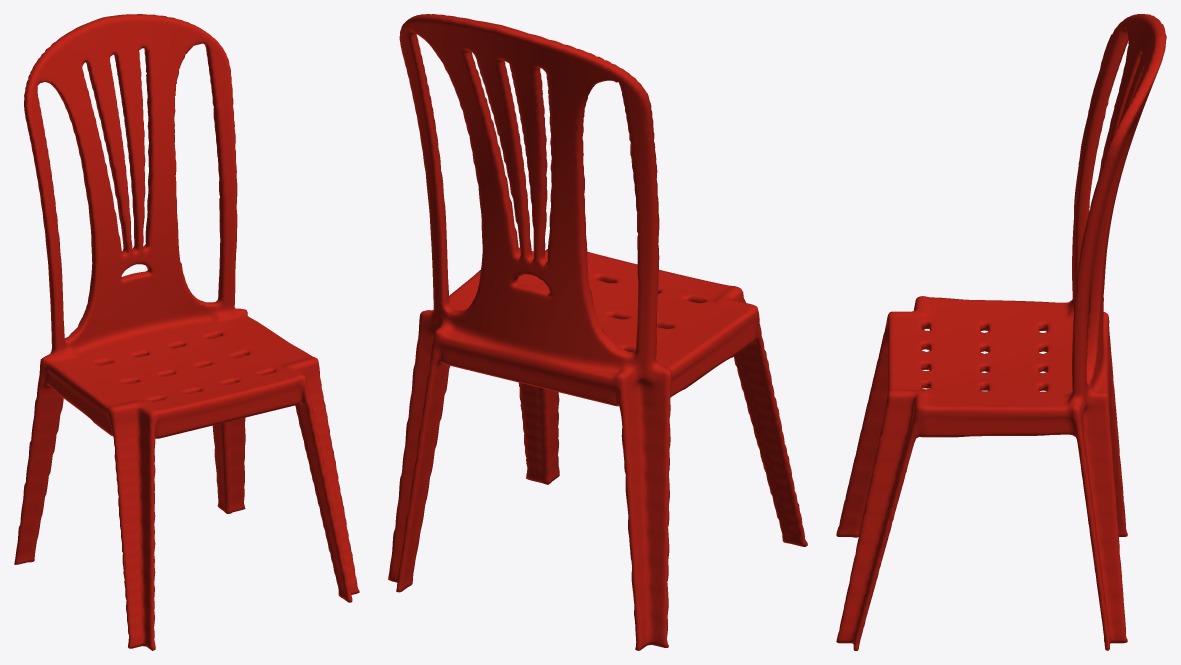
File: red-kenduri-chair.glb
3 renders of one model, left to right at view 1: azimuth 30°, elevation 25°; view 2: azimuth 150°, elevation 25°; view 3: azimuth 270°, elevation 25°, orthographic. The views are drawn at different scales.
Visible parts, largest first — view 1: Continuous rounded plastic shell — L-section legs and curved; view 2: Continuous rounded plastic shell — L-section legs and curved; view 3: Continuous rounded plastic shell — L-section legs and curved.
Boxes of the visible parts, x1,y1,x2,y2 form: Continuous rounded plastic shell — L-section legs and curved: [14, 14, 359, 650]; Continuous rounded plastic shell — L-section legs and curved: [388, 14, 807, 650]; Continuous rounded plastic shell — L-section legs and curved: [836, 14, 1166, 650].
Size of the model in its own units: 0.5022 by 1.04 by 0.5647.
